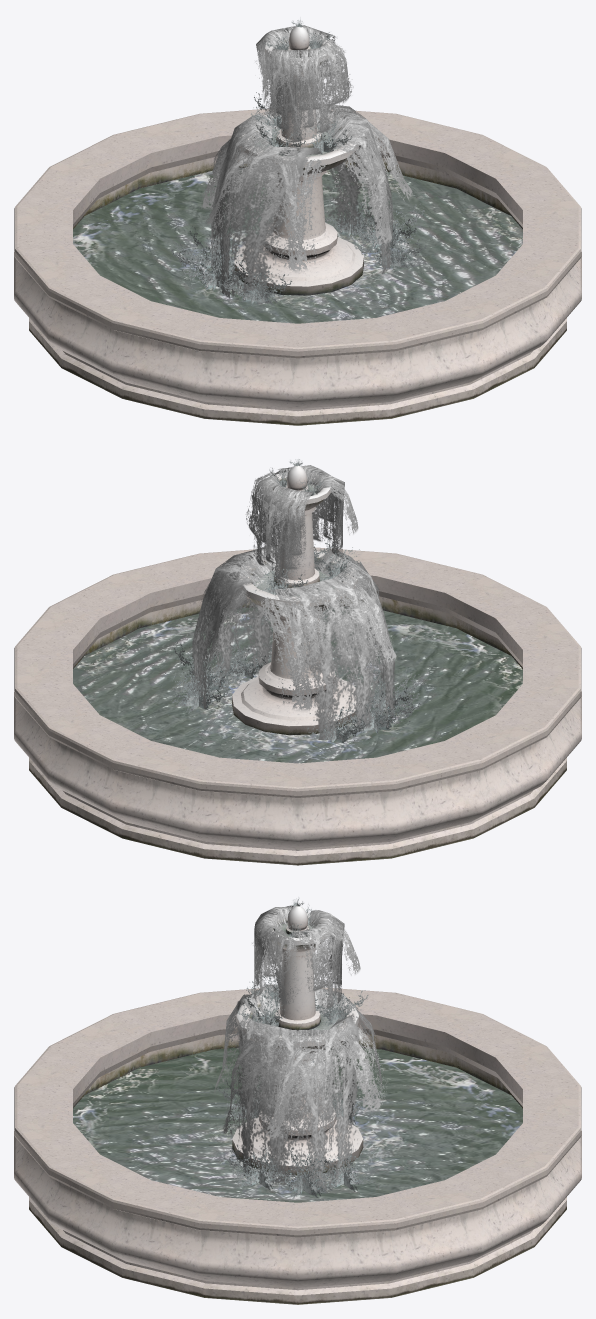
File: fontaine-1.glb
The picture shows the model from 3 angles, top to bottom: view 1: azimuth 30°, elevation 25°; view 2: azimuth 150°, elevation 25°; view 3: azimuth 270°, elevation 25°; orthographic projection.
Visible parts, largest first — view 1: Object002_Material #2_0, Object002_Material #3_0, Object002_Material #23_0, Object006_Material #49_0, Object005_Material #49_0, Plane001, Plane009, Plane007, Plane008, Object004_Material #49_0, Plane006, Object007_Material #49_0 (+3 smaller); view 2: Object002_Material #2_0, Object002_Material #3_0, Object002_Material #23_0, Plane001, Plane009, Plane005, Plane007, Object008_Material #49_0, Plane010, Object003_Material #49_0, Plane006, Plane008 (+1 smaller); view 3: Object002_Material #2_0, Object002_Material #3_0, Object002_Material #23_0, Object004_Material #49_0, Object003_Material #49_0, Object005_Material #49_0, Plane007, Object009_Material #49_0, Plane006, Plane005, Object006_Material #49_0, Plane014 (+2 smaller).
Part boxes in pixels (x1=…): Object002_Material #2_0: x1=14, y1=109, x2=581, y2=425; Object002_Material #3_0: x1=73, y1=167, x2=522, y2=323; Object002_Material #23_0: x1=211, y1=25, x2=393, y2=299; Object006_Material #49_0: x1=248, y1=151, x2=345, y2=272; Object005_Material #49_0: x1=332, y1=135, x2=393, y2=246; Plane001: x1=199, y1=137, x2=265, y2=227; Plane009: x1=171, y1=243, x2=251, y2=296; Plane007: x1=351, y1=202, x2=424, y2=249; Plane008: x1=218, y1=265, x2=292, y2=305; Object004_Material #49_0: x1=342, y1=116, x2=412, y2=201; Plane006: x1=354, y1=228, x2=426, y2=269; Object007_Material #49_0: x1=259, y1=49, x2=291, y2=116; Object002_Material #2_0: x1=14, y1=547, x2=581, y2=865; Object002_Material #3_0: x1=73, y1=607, x2=522, y2=763; Object002_Material #23_0: x1=192, y1=465, x2=395, y2=739; Plane001: x1=250, y1=585, x2=396, y2=711; Plane009: x1=342, y1=678, x2=421, y2=737; Plane005: x1=168, y1=663, x2=235, y2=715; Plane007: x1=172, y1=640, x2=251, y2=694; Object008_Material #49_0: x1=256, y1=487, x2=290, y2=554; Plane010: x1=306, y1=706, x2=370, y2=745; Object003_Material #49_0: x1=208, y1=569, x2=249, y2=663; Plane006: x1=214, y1=636, x2=271, y2=685; Plane008: x1=357, y1=667, x2=422, y2=711; Object002_Material #2_0: x1=14, y1=987, x2=581, y2=1304; Object002_Material #3_0: x1=73, y1=1047, x2=522, y2=1202; Object002_Material #23_0: x1=232, y1=905, x2=363, y2=1191; Object004_Material #49_0: x1=258, y1=1047, x2=340, y2=1139; Object003_Material #49_0: x1=322, y1=1025, x2=387, y2=1113; Object005_Material #49_0: x1=223, y1=1025, x2=284, y2=1134; Plane007: x1=258, y1=1143, x2=336, y2=1201; Object009_Material #49_0: x1=262, y1=929, x2=300, y2=1005; Plane006: x1=223, y1=1141, x2=287, y2=1192; Plane005: x1=309, y1=1143, x2=373, y2=1193; Object006_Material #49_0: x1=214, y1=994, x2=259, y2=1092; Plane014: x1=314, y1=990, x2=368, y2=1026.
Bounding box in the file's own units: 682 × 381 × 672.
Materials: 5 (5 with a texture image).
